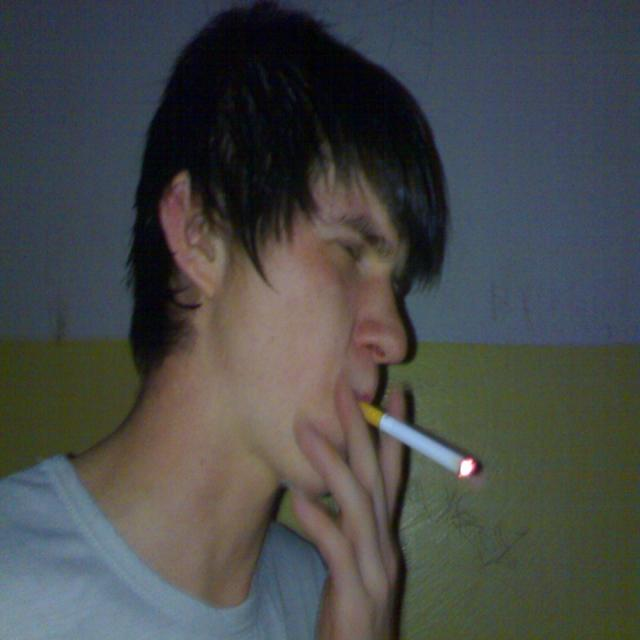cigarette: (352, 387, 483, 484)
